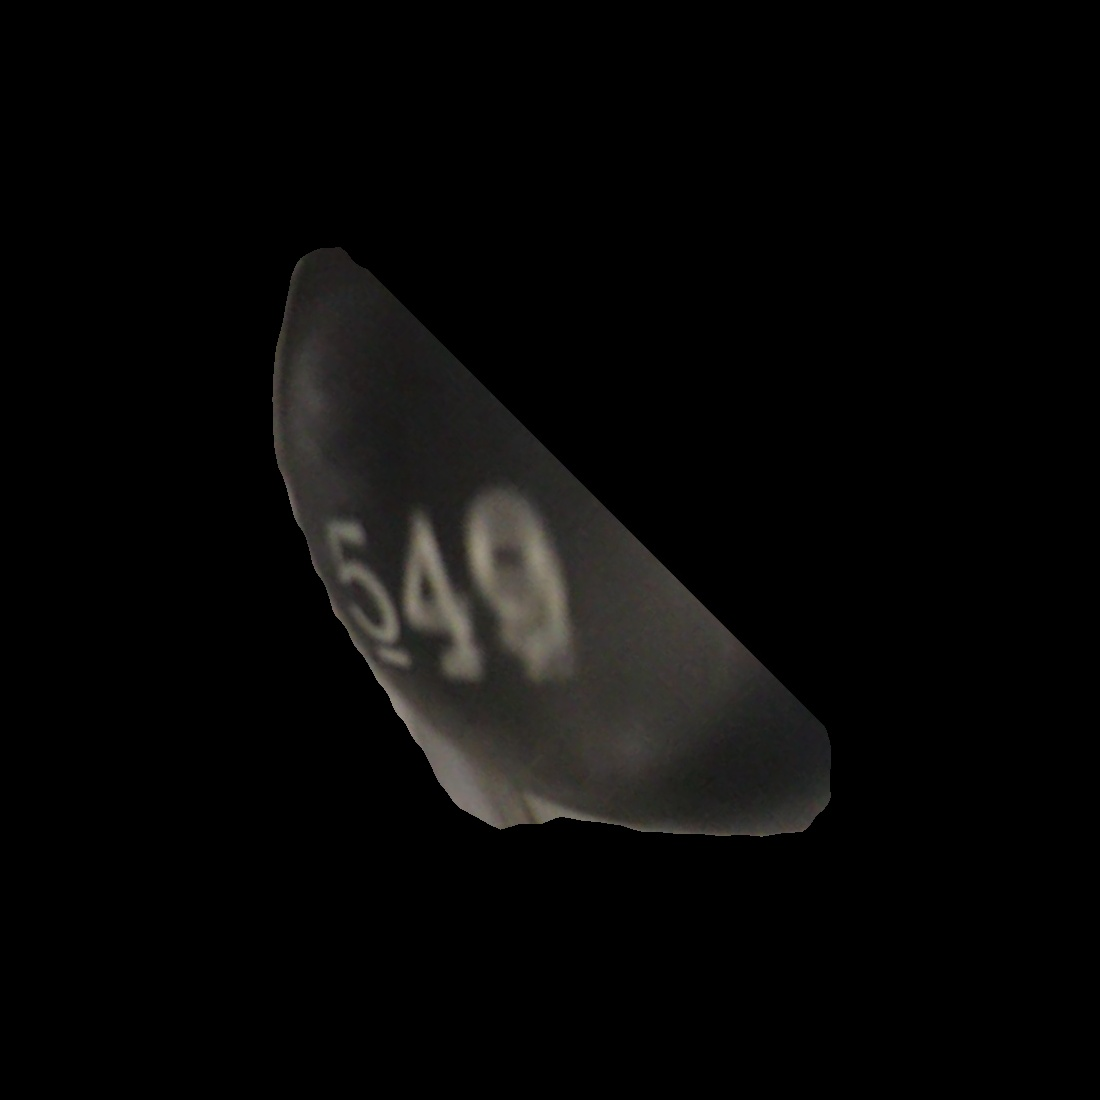digits: (326, 485, 572, 689)
